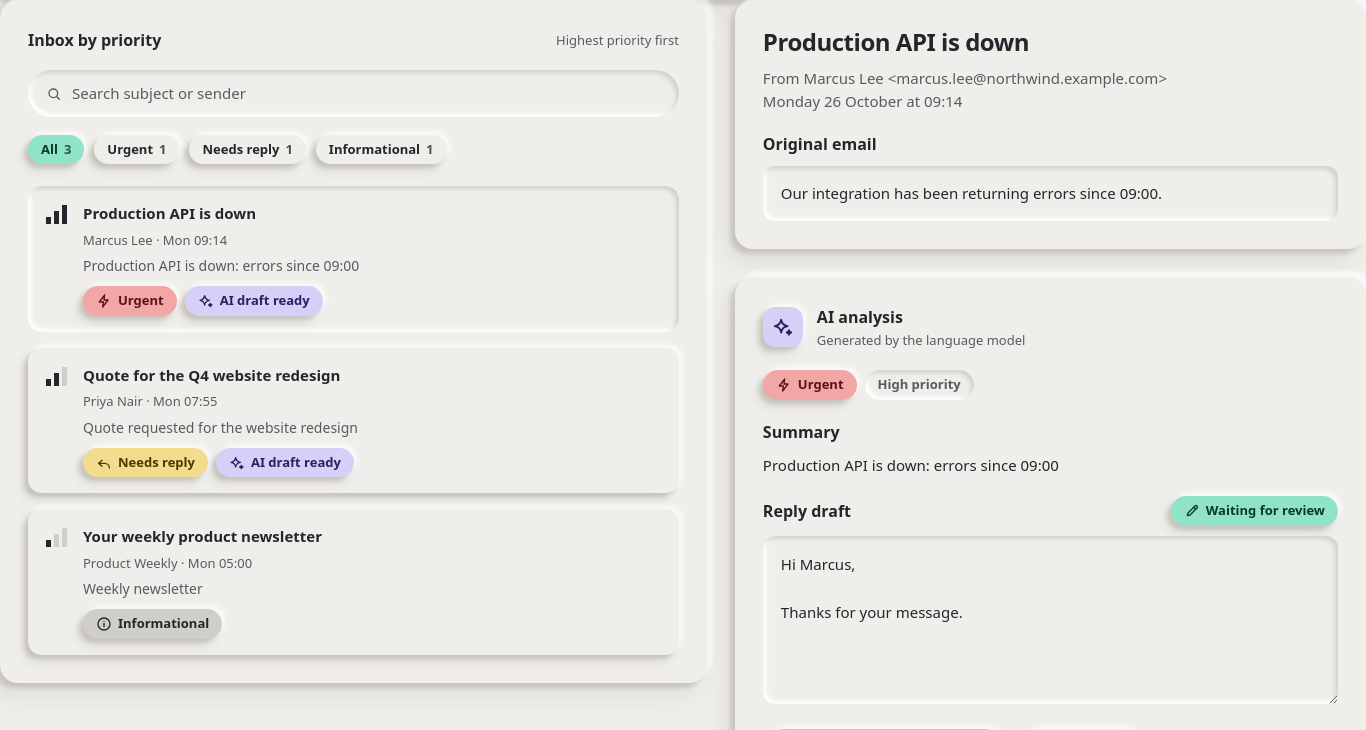
Test case: Overview › shows the email and its AI analysis in separate cards for the selected row
(page scrolled)
Expected: the heading "Production API is down" is shown, x1=763 y1=25 x2=1029 y2=58
Click the button "Quote for the Q4 website redesign". click: (353, 421)
box: x1=28 y1=348 x2=679 y2=493
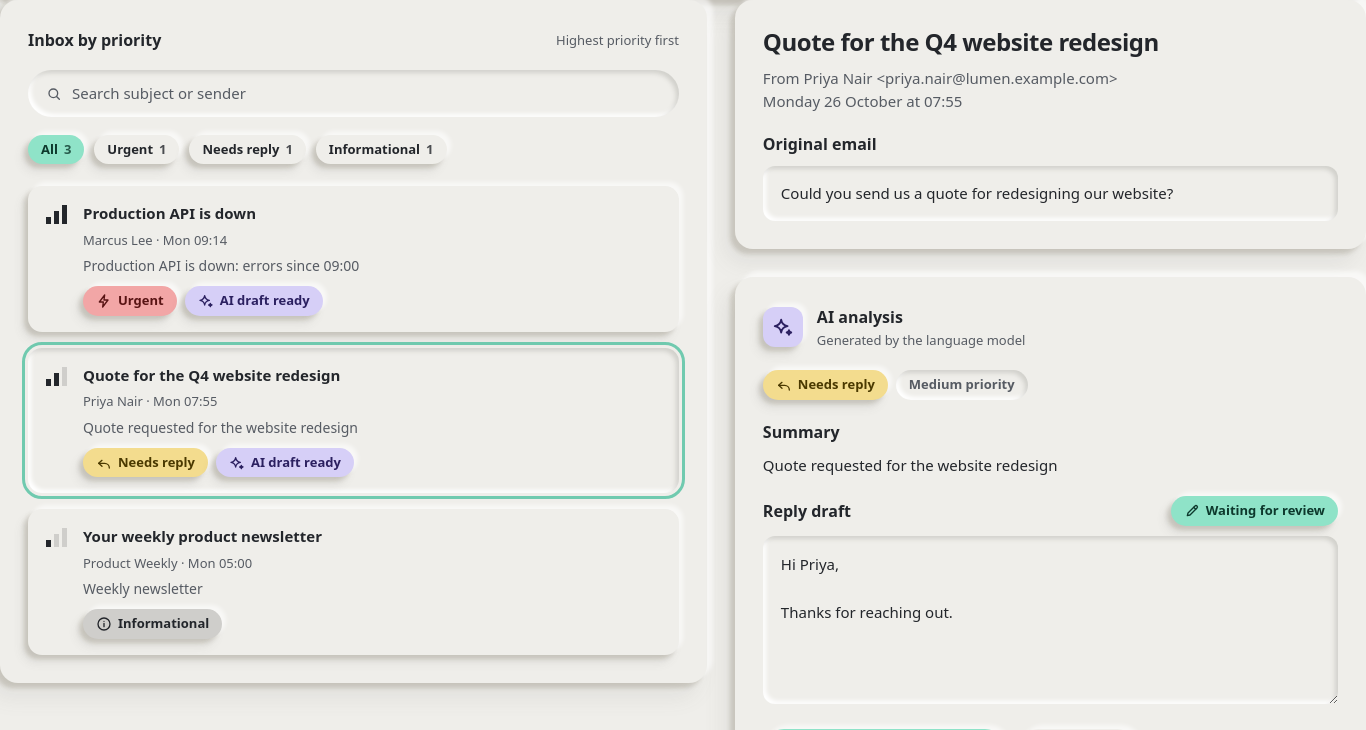
Expected: the heading "Quote for the Q4 website redesign" is shown, x1=763 y1=25 x2=1159 y2=58
Expected: the text "Quote requested for the website redesign" below "Medium priority" is shown, x1=763 y1=455 x2=1058 y2=475
